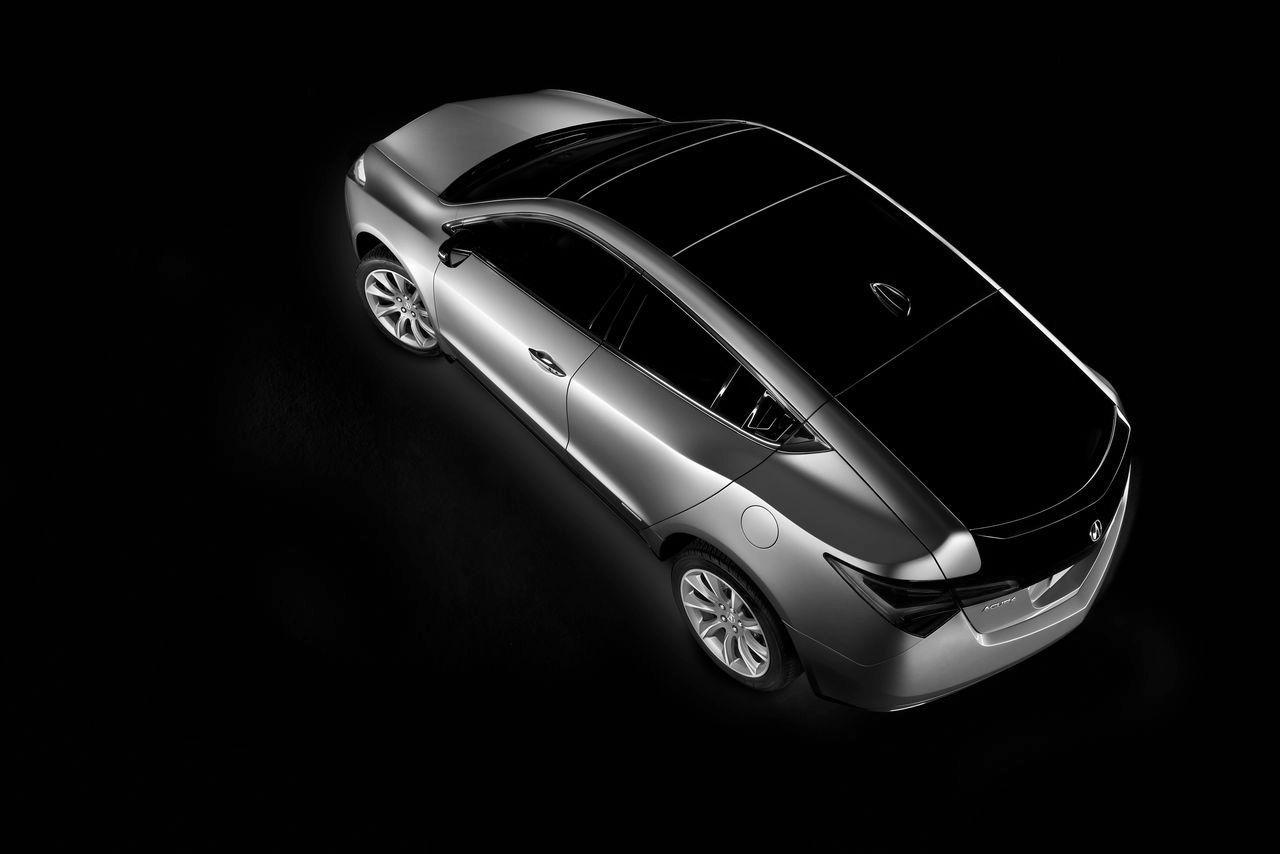car: (338, 82, 1133, 733)
